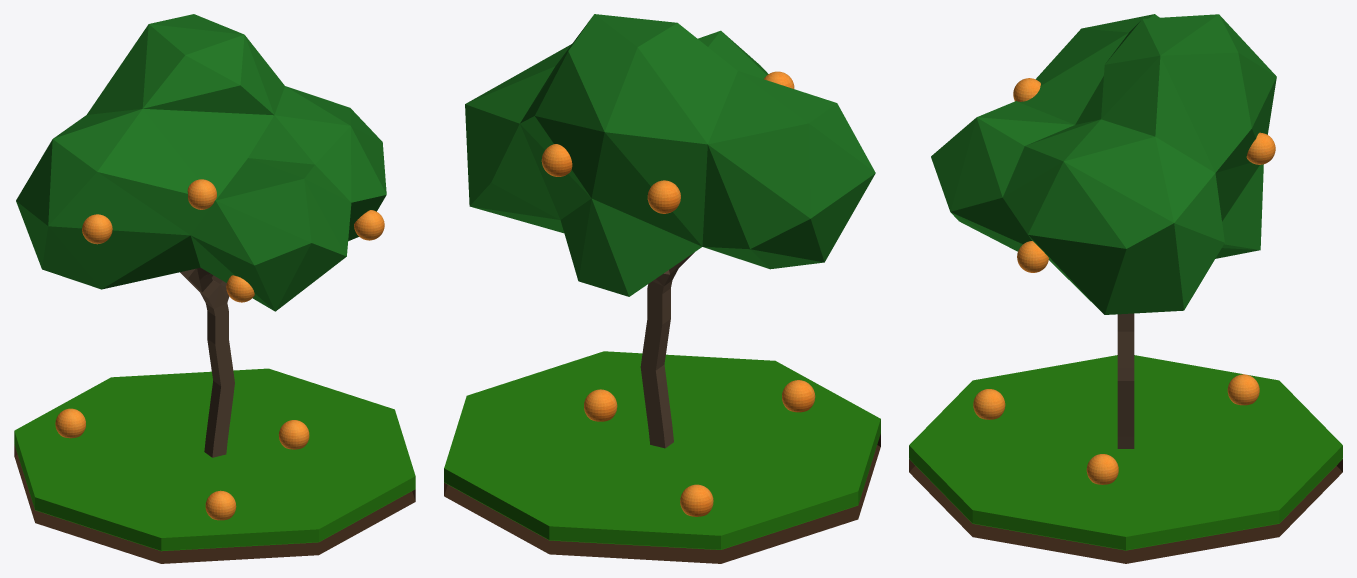
The model's file is orange_tree.glb.
The picture shows the model from 3 angles, left to right: view 1: azimuth 30°, elevation 25°; view 2: azimuth 150°, elevation 25°; view 3: azimuth 270°, elevation 25°; orthographic projection. The views are drawn at different scales.
Visible parts, largest first — view 1: Mball.008, Circle, Vert, Sphere.005, Sphere.007, Sphere.008, Sphere.006, Sphere, Sphere.002, Sphere.001; view 2: Mball.008, Circle, Vert, Sphere.003, Sphere.005, Sphere.008, Sphere.007, Sphere.004; view 3: Mball.008, Circle, Vert, Sphere.008, Sphere.005, Sphere.007, Sphere.002, Sphere.004.
Part boxes in pixels (x1,y1,x2,y2): Mball.008: (16,14,386,311); Circle: (14,368,415,563); Vert: (180,267,234,457); Sphere.005: (278,420,309,449); Sphere.007: (205,490,236,520); Sphere.008: (55,408,85,438); Sphere.006: (187,179,216,209); Sphere: (82,214,112,244); Sphere.002: (354,210,384,240); Sphere.001: (226,275,254,302); Mball.008: (465,14,875,296); Circle: (444,351,880,563); Vert: (640,252,694,448); Sphere.003: (647,180,680,213); Sphere.005: (584,389,617,421); Sphere.008: (680,484,713,516); Sphere.007: (782,380,815,412); Sphere.004: (541,144,572,176); Mball.008: (931,14,1276,314); Circle: (909,355,1342,563); Vert: (1117,313,1134,448); Sphere.008: (1227,374,1259,405); Sphere.005: (1086,454,1118,484); Sphere.007: (973,389,1005,419); Sphere.002: (1017,241,1048,272); Sphere.004: (1246,132,1275,164).
Bounding box in the file's own units: 8.12 × 9.2 × 8.09.
13 materials, 9 textured.
